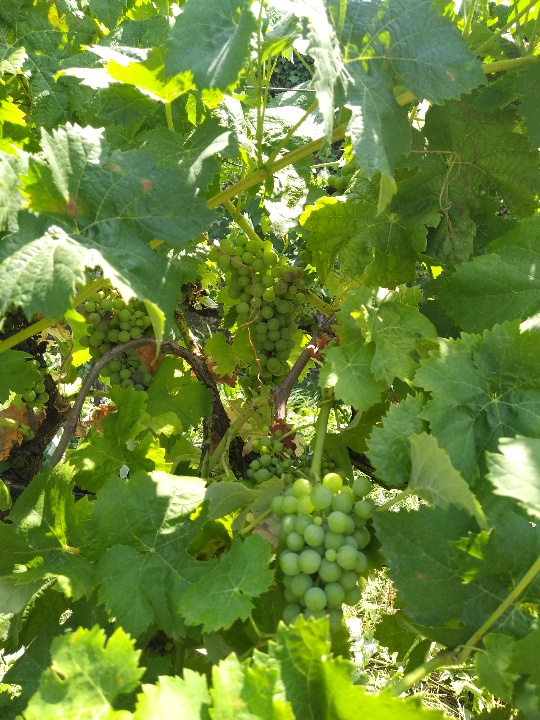grape: (267, 470, 376, 635), (206, 232, 309, 390), (78, 285, 155, 402)
